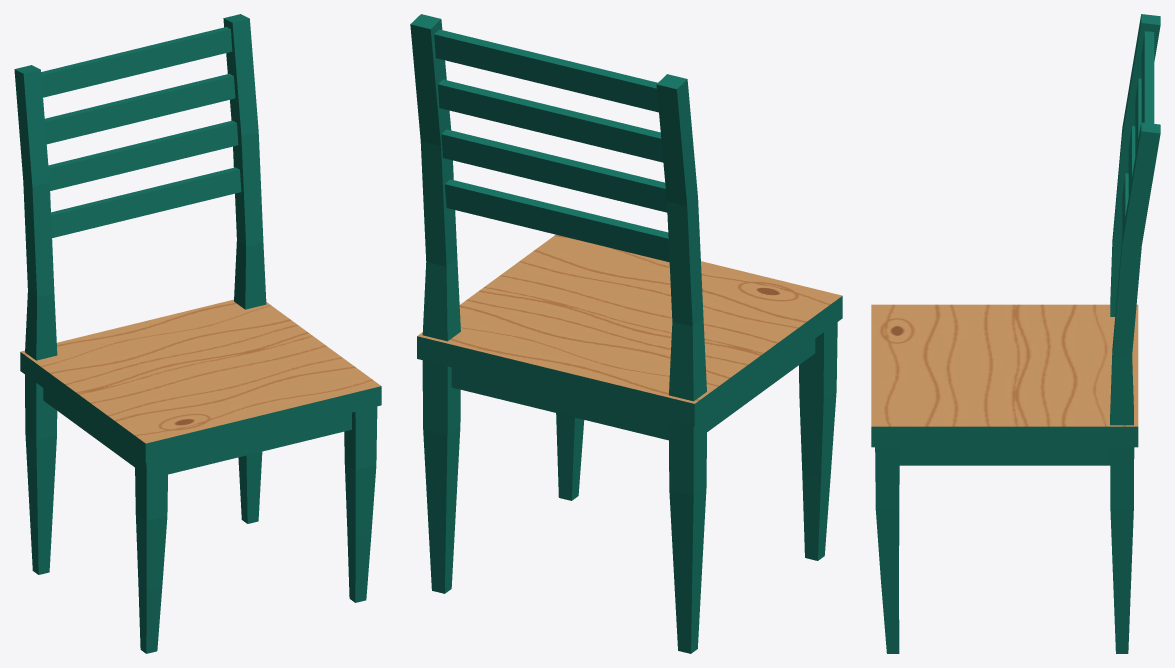
File: chair_a.glb
The picture shows the model from 3 angles, left to right: view 1: azimuth 30°, elevation 25°; view 2: azimuth 150°, elevation 25°; view 3: azimuth 270°, elevation 25°; orthographic projection. The views are drawn at different scales.
Parts seen in each view (by area): view 1: body; view 2: body; view 3: body.
Boxes of the visible parts, x1=… form: body: x1=14, y1=14, x2=381, y2=653; body: x1=410, y1=14, x2=842, y2=653; body: x1=871, y1=14, x2=1160, y2=653.
Bounding box in the file's own units: 0.45 × 0.9 × 0.45.
Materials: 2 (1 with a texture image).
